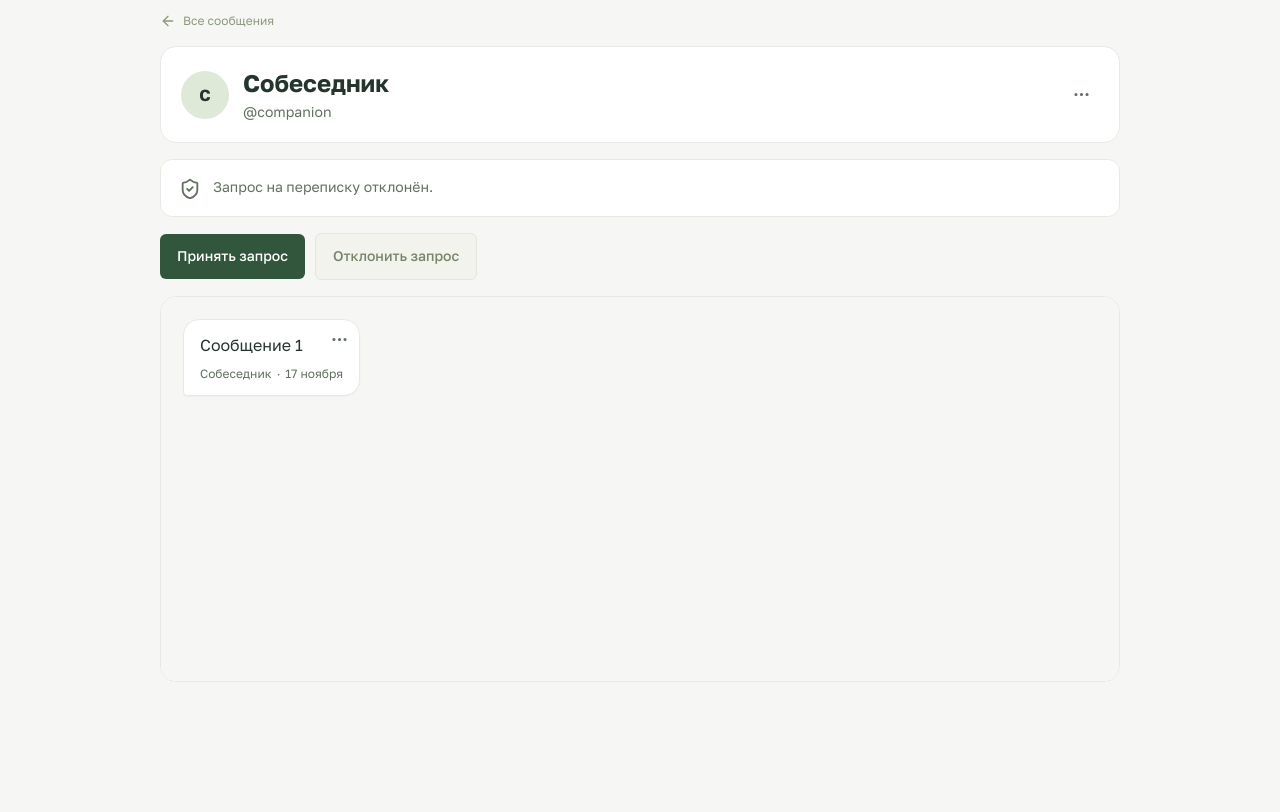
Test: a recipient can reconsider a declined request when the API allows accepting it
Expected: the text "Запрос на переписку отклонён." is shown, [213,176,433,199]
Click the button "Принять запрос": point(232, 256) [160,234,305,279]
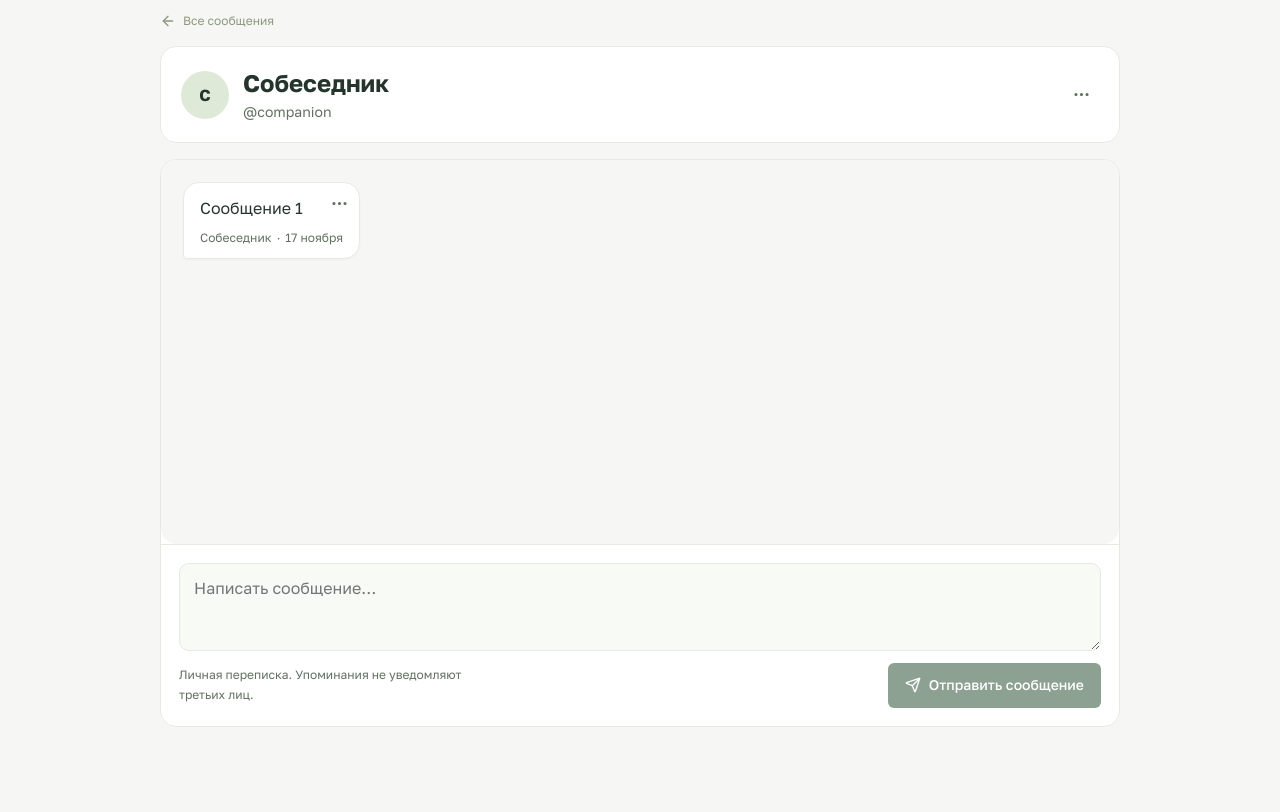
Expected: the text box named "Ваше сообщение" is shown, [179,563,1101,651]
